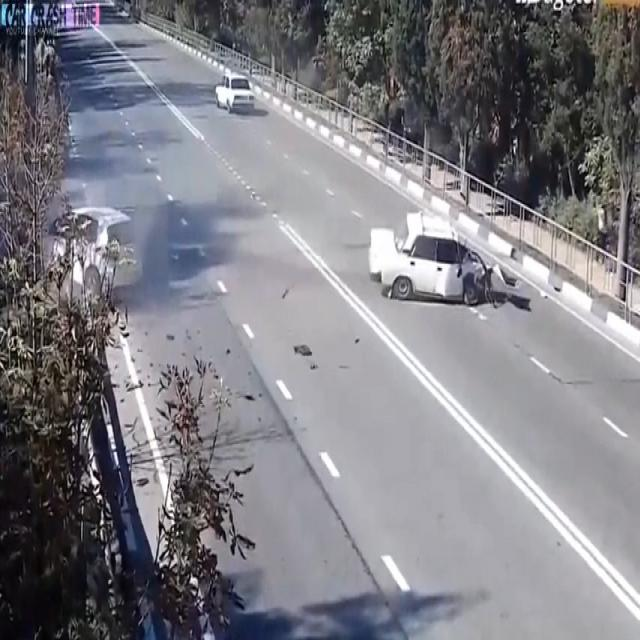Accident: (24, 134, 168, 329), (372, 188, 512, 364)
